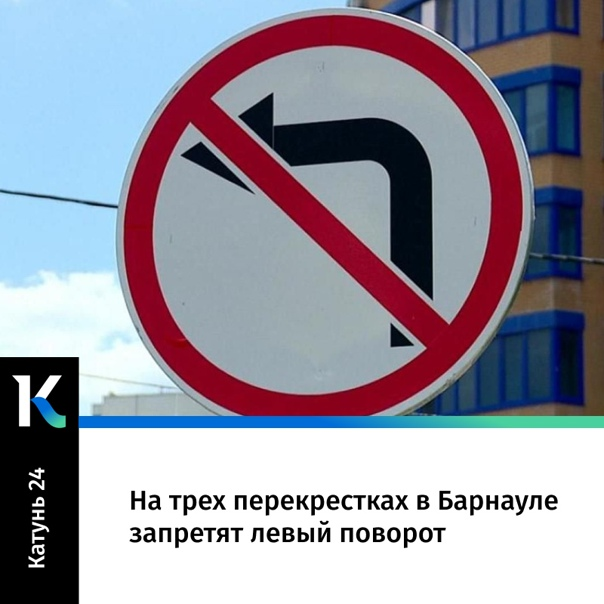sola_girilmez: (118, 6, 537, 421)
